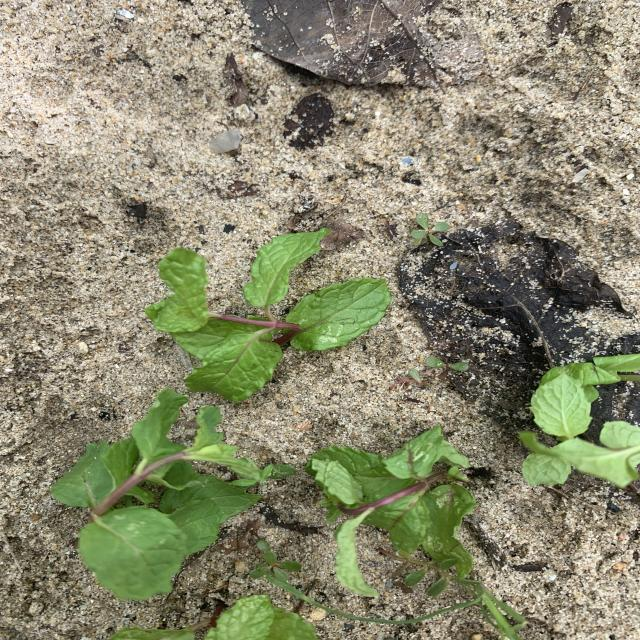crop: (52, 389, 261, 600), (146, 229, 389, 402), (308, 427, 475, 595), (520, 354, 640, 488), (108, 596, 318, 639)
weed: (272, 579, 526, 640), (384, 552, 467, 596), (388, 357, 467, 391), (251, 541, 299, 581), (412, 214, 450, 246)
